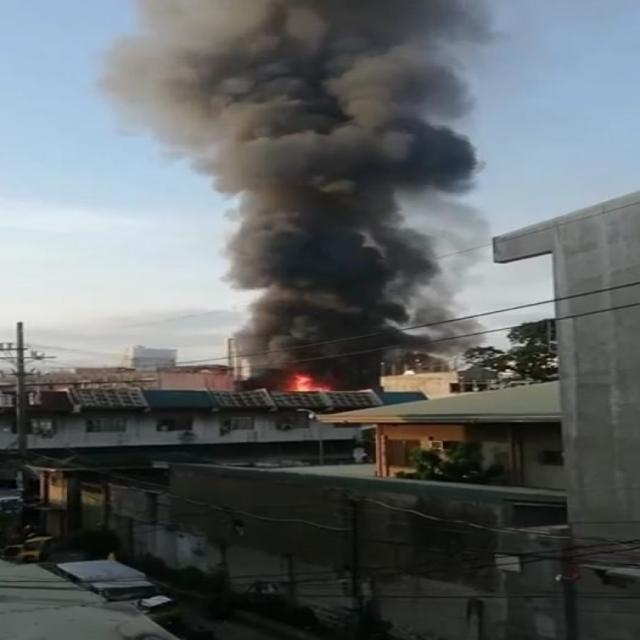Fire: (224, 211, 472, 380), (268, 373, 334, 393)
Smoke: (126, 0, 506, 234)
